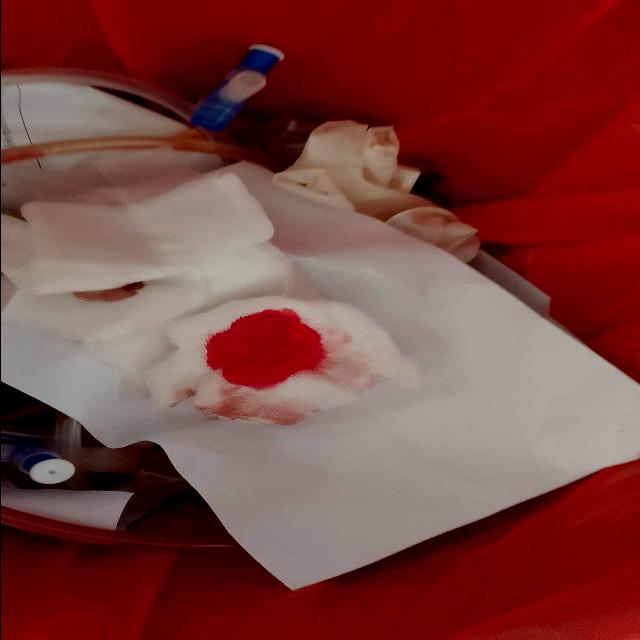General: (3, 42, 638, 592)
Infectious: (141, 294, 420, 426)
Sharps: (2, 41, 286, 169), (187, 41, 286, 133), (2, 435, 76, 485)
